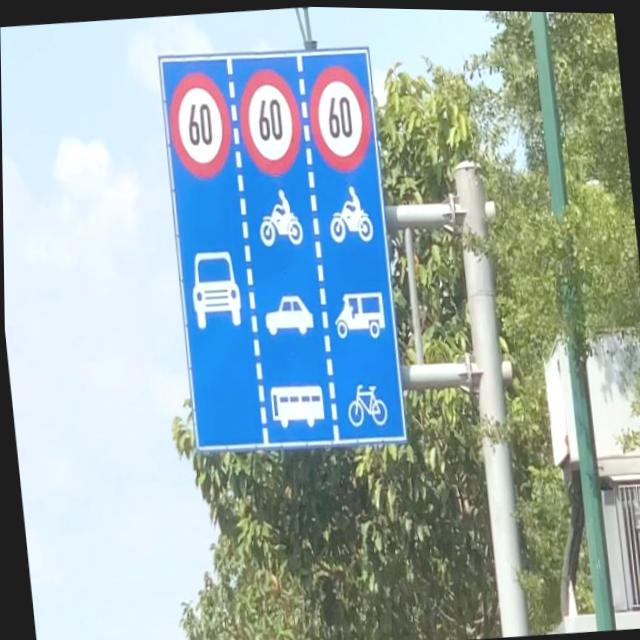Toc do toi da cho phep: (304, 59, 375, 175), (164, 67, 235, 181), (235, 64, 305, 177)
